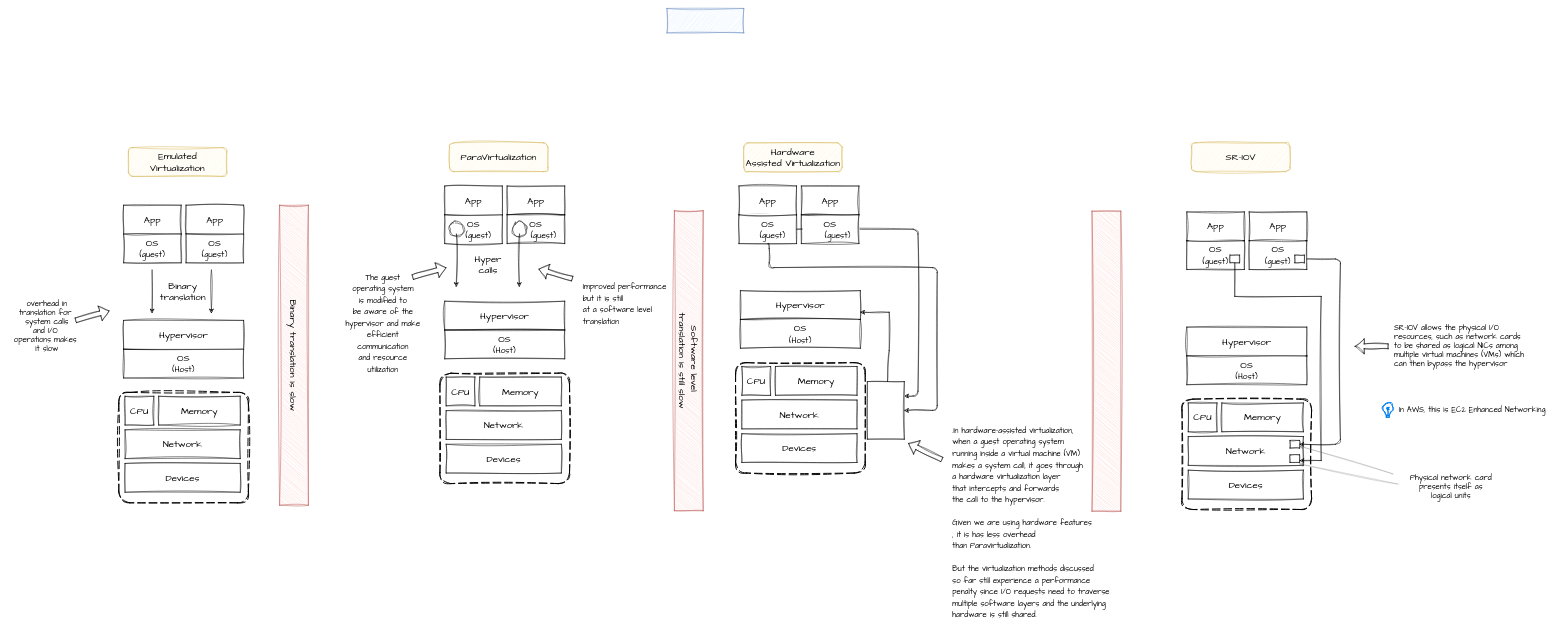
This 1564x631 diagram has some shape labels left out. The box of each missing label's shape, as (x1, y1, x2, y2) in pixels:
Hardware Virtulization layer: (867, 381, 904, 439)
Still an overhead for I/O operations: (1092, 211, 1121, 511)
VIRTUALIZATION: (666, 8, 744, 33)
